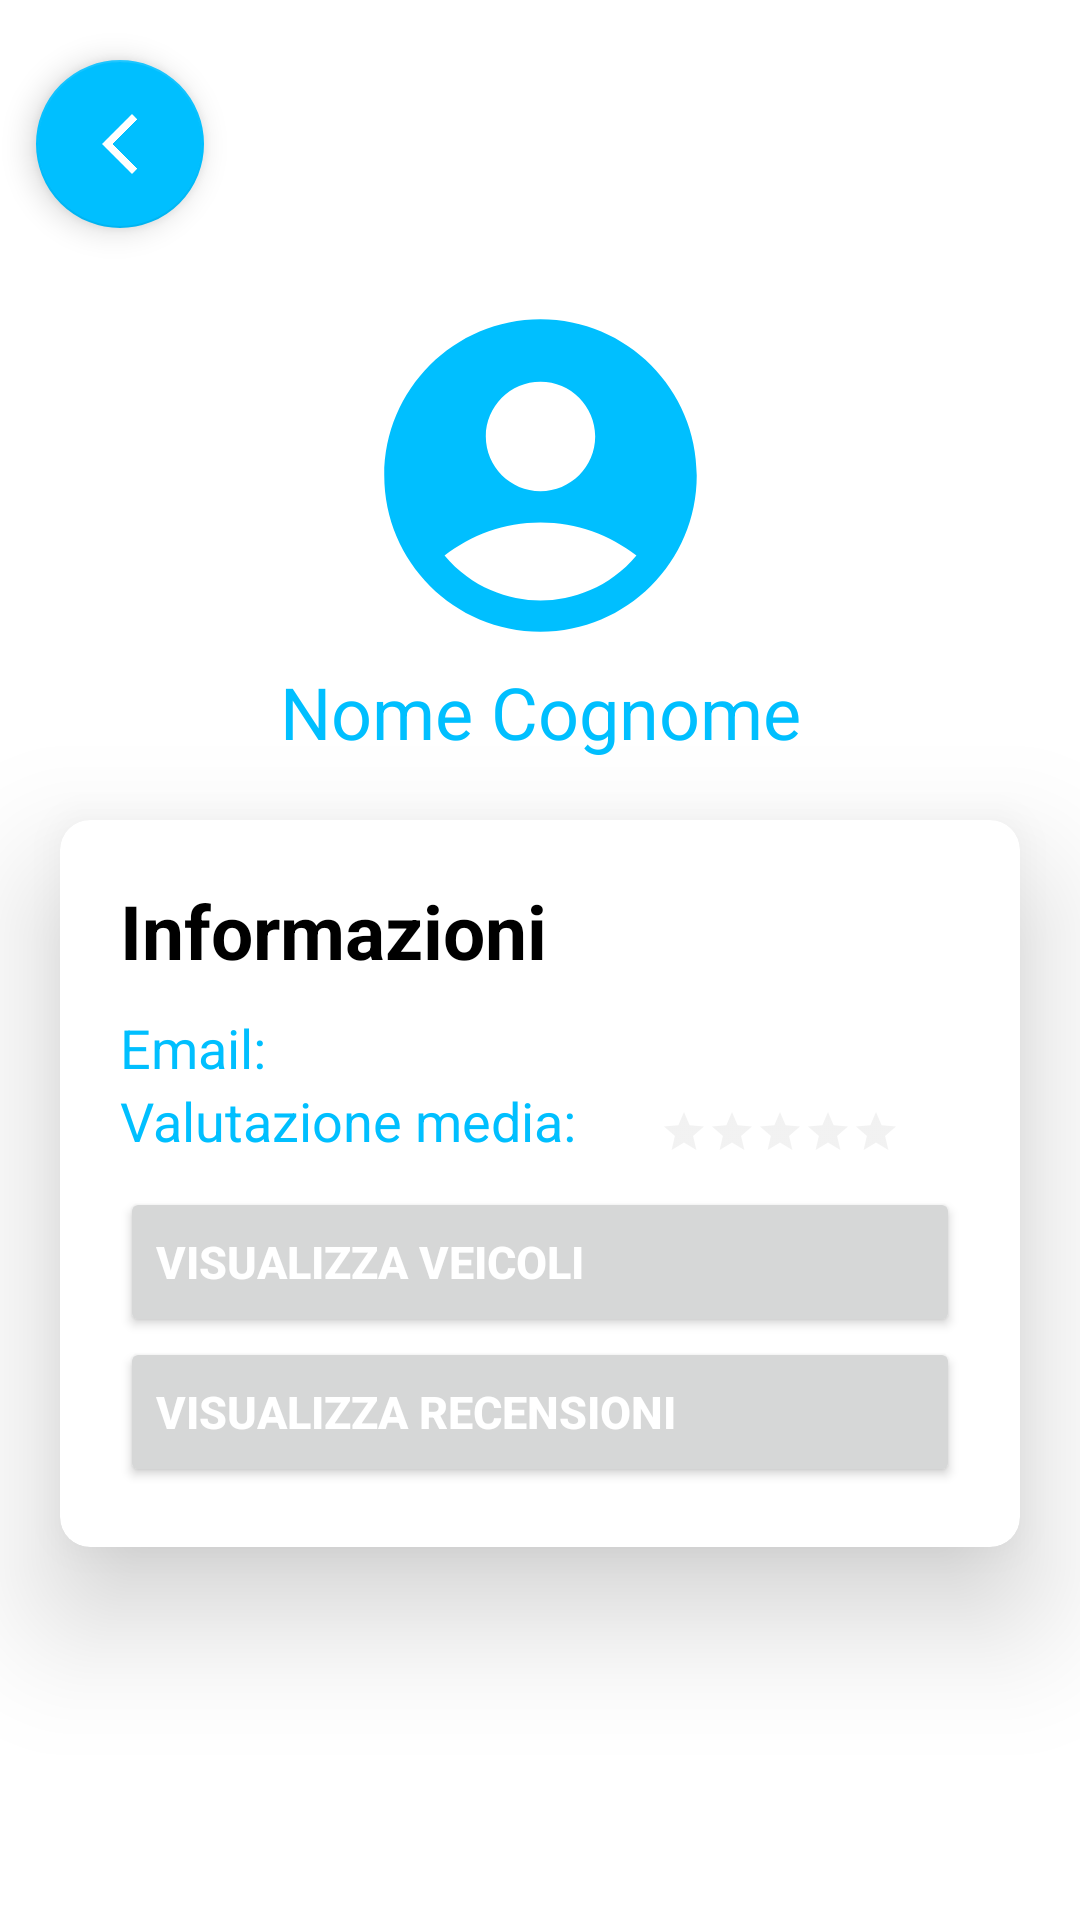

Icons on this 1080px x 1920px Android screen, each with the point to tap as (x=x, y=y):
account circle app theme: (x=540, y=475)
arrow back: (x=120, y=144)
